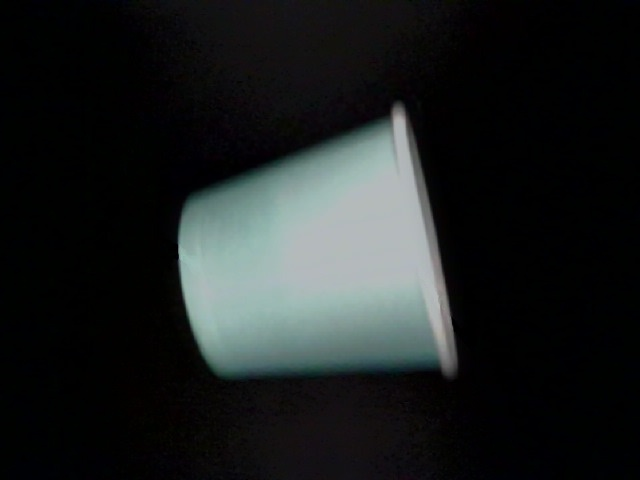KHSLJ: (3, 11, 466, 435)
